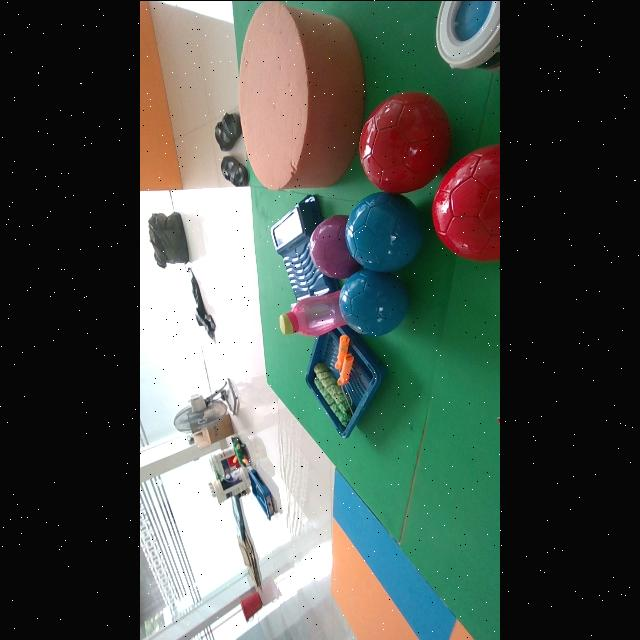B: (345, 191, 422, 270), (339, 269, 409, 336)
P: (310, 214, 360, 278)
R: (359, 92, 451, 192), (432, 144, 500, 260)
